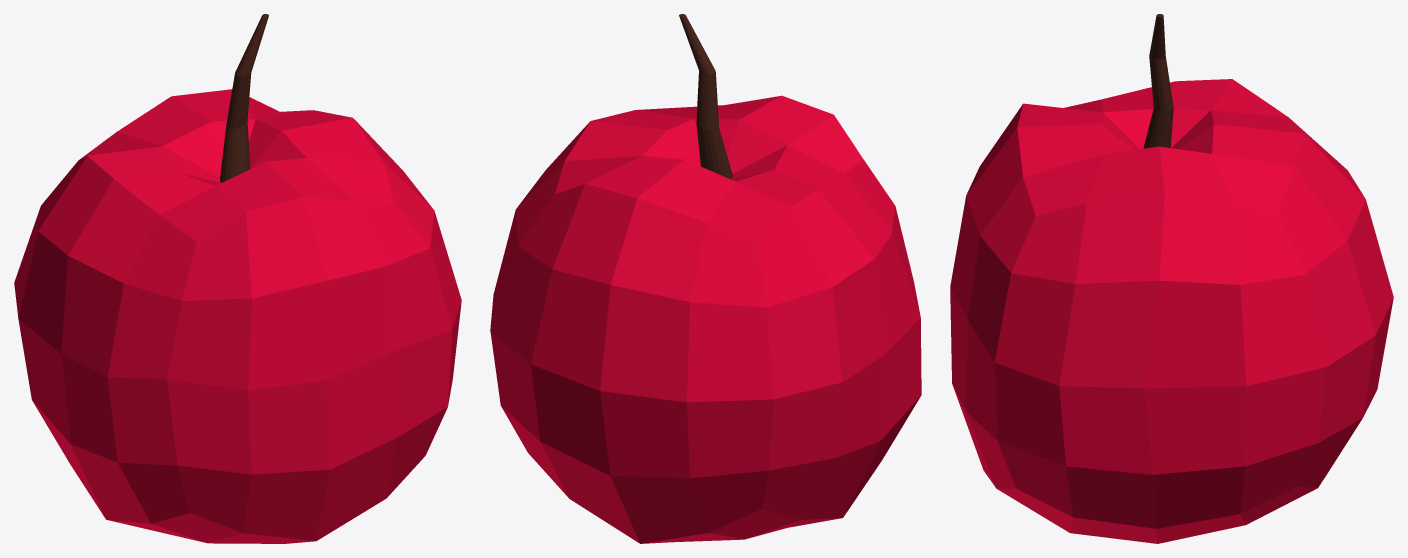
File: Mela.fbx
3 views of the same model, side by side, from view 1: azimuth 30°, elevation 25°; view 2: azimuth 150°, elevation 25°; view 3: azimuth 270°, elevation 25° (orthographic). The views are drawn at different scales.
Parts seen in each view (by area): view 1: Mela, Mela_picciolo; view 2: Mela, Mela_picciolo; view 3: Mela, Mela_picciolo.
Part boxes in pixels (x1,y1,x2,y2): Mela: (14,89,461,543); Mela_picciolo: (220,14,268,182); Mela: (490,95,921,543); Mela_picciolo: (679,14,732,179); Mela: (950,79,1393,543); Mela_picciolo: (1143,14,1173,148).
Bounding box in the file's own units: 113 × 149 × 118.
